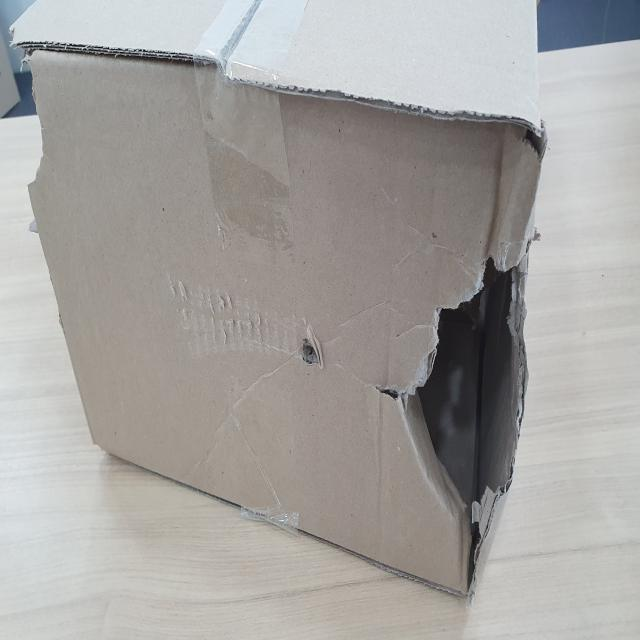hole: (369, 202, 542, 602)
